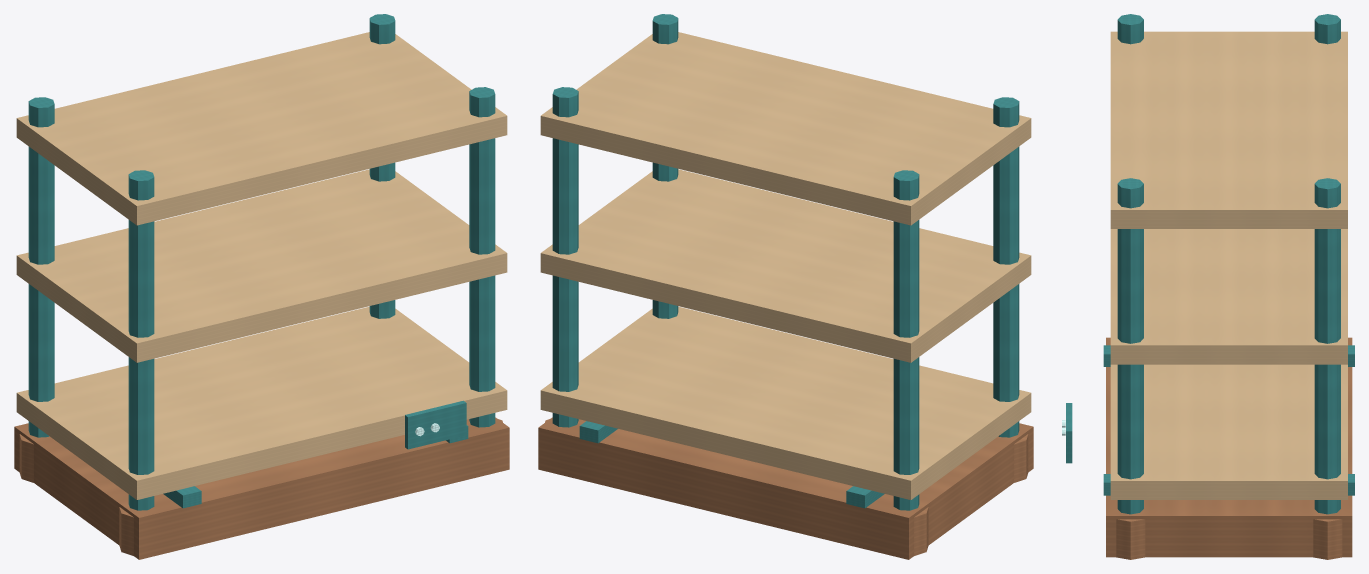
Rendered from atlas100-s097-a06.glb.
3 views of the same model, side by side, from view 1: azimuth 30°, elevation 25°; view 2: azimuth 150°, elevation 25°; view 3: azimuth 270°, elevation 25° (orthographic).
Parts seen in each view (by area): view 1: atlas100-s097-a06:part-013, atlas100-s097-a06:part-012, atlas100-s097-a06:part-011, atlas100-s097-a06:part-000, atlas100-s097-a06:part-005, atlas100-s097-a06:part-009, atlas100-s097-a06:part-003, atlas100-s097-a06:part-014, atlas100-s097-a06:part-007, atlas100-s097-a06:part-004, atlas100-s097-a06:part-006; view 2: atlas100-s097-a06:part-013, atlas100-s097-a06:part-012, atlas100-s097-a06:part-011, atlas100-s097-a06:part-000, atlas100-s097-a06:part-003, atlas100-s097-a06:part-007, atlas100-s097-a06:part-005, atlas100-s097-a06:part-009, atlas100-s097-a06:part-004, atlas100-s097-a06:part-006; view 3: atlas100-s097-a06:part-013, atlas100-s097-a06:part-012, atlas100-s097-a06:part-011, atlas100-s097-a06:part-000, atlas100-s097-a06:part-007, atlas100-s097-a06:part-009, atlas100-s097-a06:part-008, atlas100-s097-a06:part-010, atlas100-s097-a06:part-005, atlas100-s097-a06:part-003, atlas100-s097-a06:part-014.
Part boxes in pixels (bbox=[...]): atlas100-s097-a06:part-013: bbox=[16, 32, 507, 225]; atlas100-s097-a06:part-012: bbox=[16, 169, 507, 362]; atlas100-s097-a06:part-011: bbox=[16, 306, 507, 499]; atlas100-s097-a06:part-000: bbox=[14, 417, 509, 559]; atlas100-s097-a06:part-005: bbox=[128, 170, 154, 510]; atlas100-s097-a06:part-009: bbox=[469, 87, 495, 427]; atlas100-s097-a06:part-003: bbox=[28, 97, 54, 437]; atlas100-s097-a06:part-014: bbox=[405, 400, 466, 449]; atlas100-s097-a06:part-007: bbox=[369, 14, 395, 318]; atlas100-s097-a06:part-004: bbox=[19, 434, 33, 482]; atlas100-s097-a06:part-006: bbox=[119, 507, 133, 555]; atlas100-s097-a06:part-013: bbox=[540, 32, 1031, 225]; atlas100-s097-a06:part-012: bbox=[540, 169, 1031, 362]; atlas100-s097-a06:part-011: bbox=[540, 306, 1031, 499]; atlas100-s097-a06:part-000: bbox=[538, 417, 1033, 559]; atlas100-s097-a06:part-003: bbox=[893, 170, 919, 510]; atlas100-s097-a06:part-007: bbox=[552, 87, 578, 427]; atlas100-s097-a06:part-005: bbox=[993, 97, 1019, 437]; atlas100-s097-a06:part-009: bbox=[652, 14, 678, 318]; atlas100-s097-a06:part-004: bbox=[914, 507, 928, 555]; atlas100-s097-a06:part-006: bbox=[1014, 434, 1028, 482]; atlas100-s097-a06:part-013: bbox=[1110, 31, 1347, 228]; atlas100-s097-a06:part-012: bbox=[1110, 229, 1347, 364]; atlas100-s097-a06:part-011: bbox=[1110, 364, 1347, 499]; atlas100-s097-a06:part-000: bbox=[1106, 337, 1352, 557]; atlas100-s097-a06:part-007: bbox=[1314, 178, 1340, 514]; atlas100-s097-a06:part-009: bbox=[1117, 178, 1143, 514]; atlas100-s097-a06:part-008: bbox=[1313, 519, 1342, 559]; atlas100-s097-a06:part-010: bbox=[1116, 519, 1145, 559]; atlas100-s097-a06:part-005: bbox=[1117, 14, 1143, 44]; atlas100-s097-a06:part-003: bbox=[1314, 14, 1340, 44]; atlas100-s097-a06:part-014: bbox=[1066, 403, 1072, 463].
Bounding box in the file's own units: 2.47 × 2.3 × 1.66.
4 materials, 4 textured.
